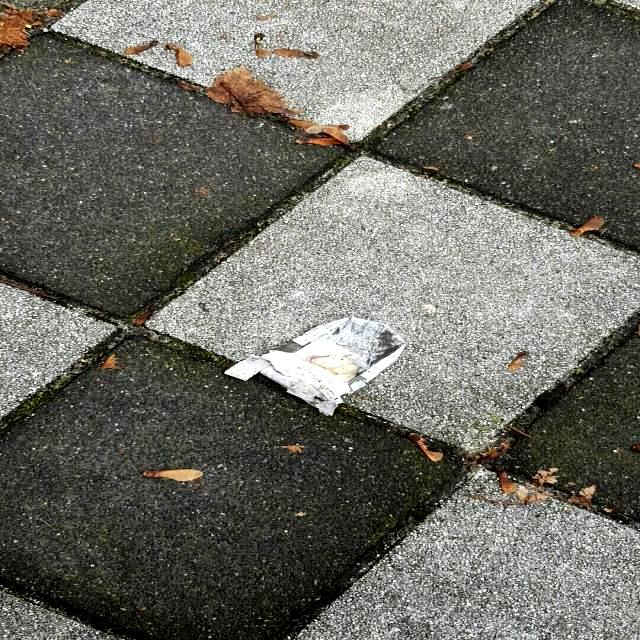Paper: (222, 316, 408, 416)
